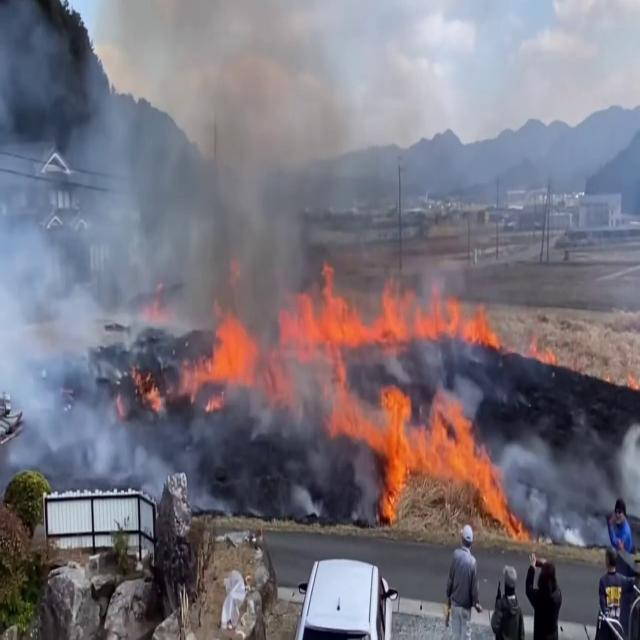Fire: (342, 374, 516, 526), (284, 264, 502, 356), (192, 304, 278, 414)
Smoke: (0, 1, 356, 460), (500, 382, 640, 542)
